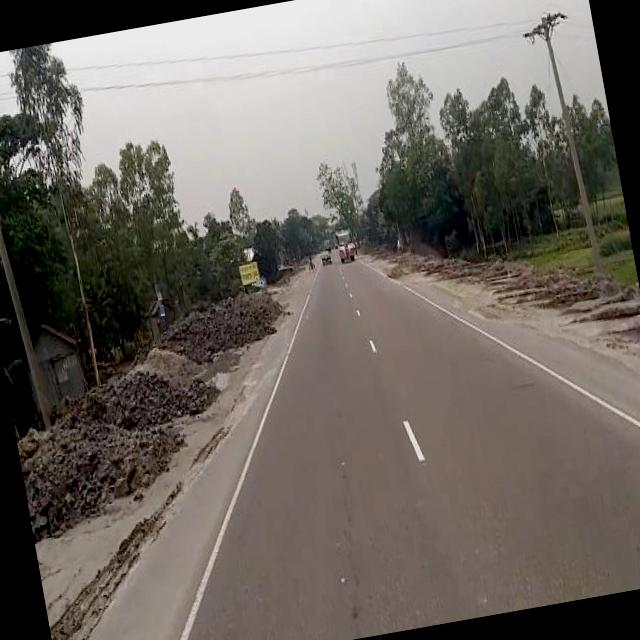bus: (332, 224, 356, 261)
car: (318, 248, 331, 264)
